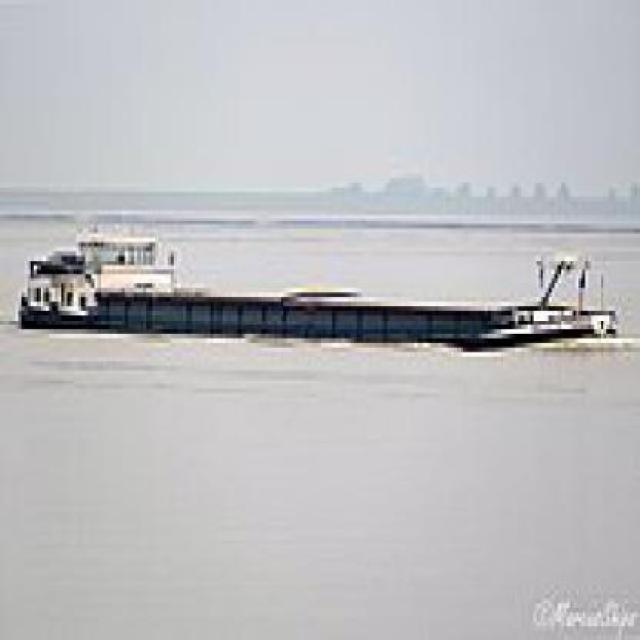container: (13, 207, 626, 367)
